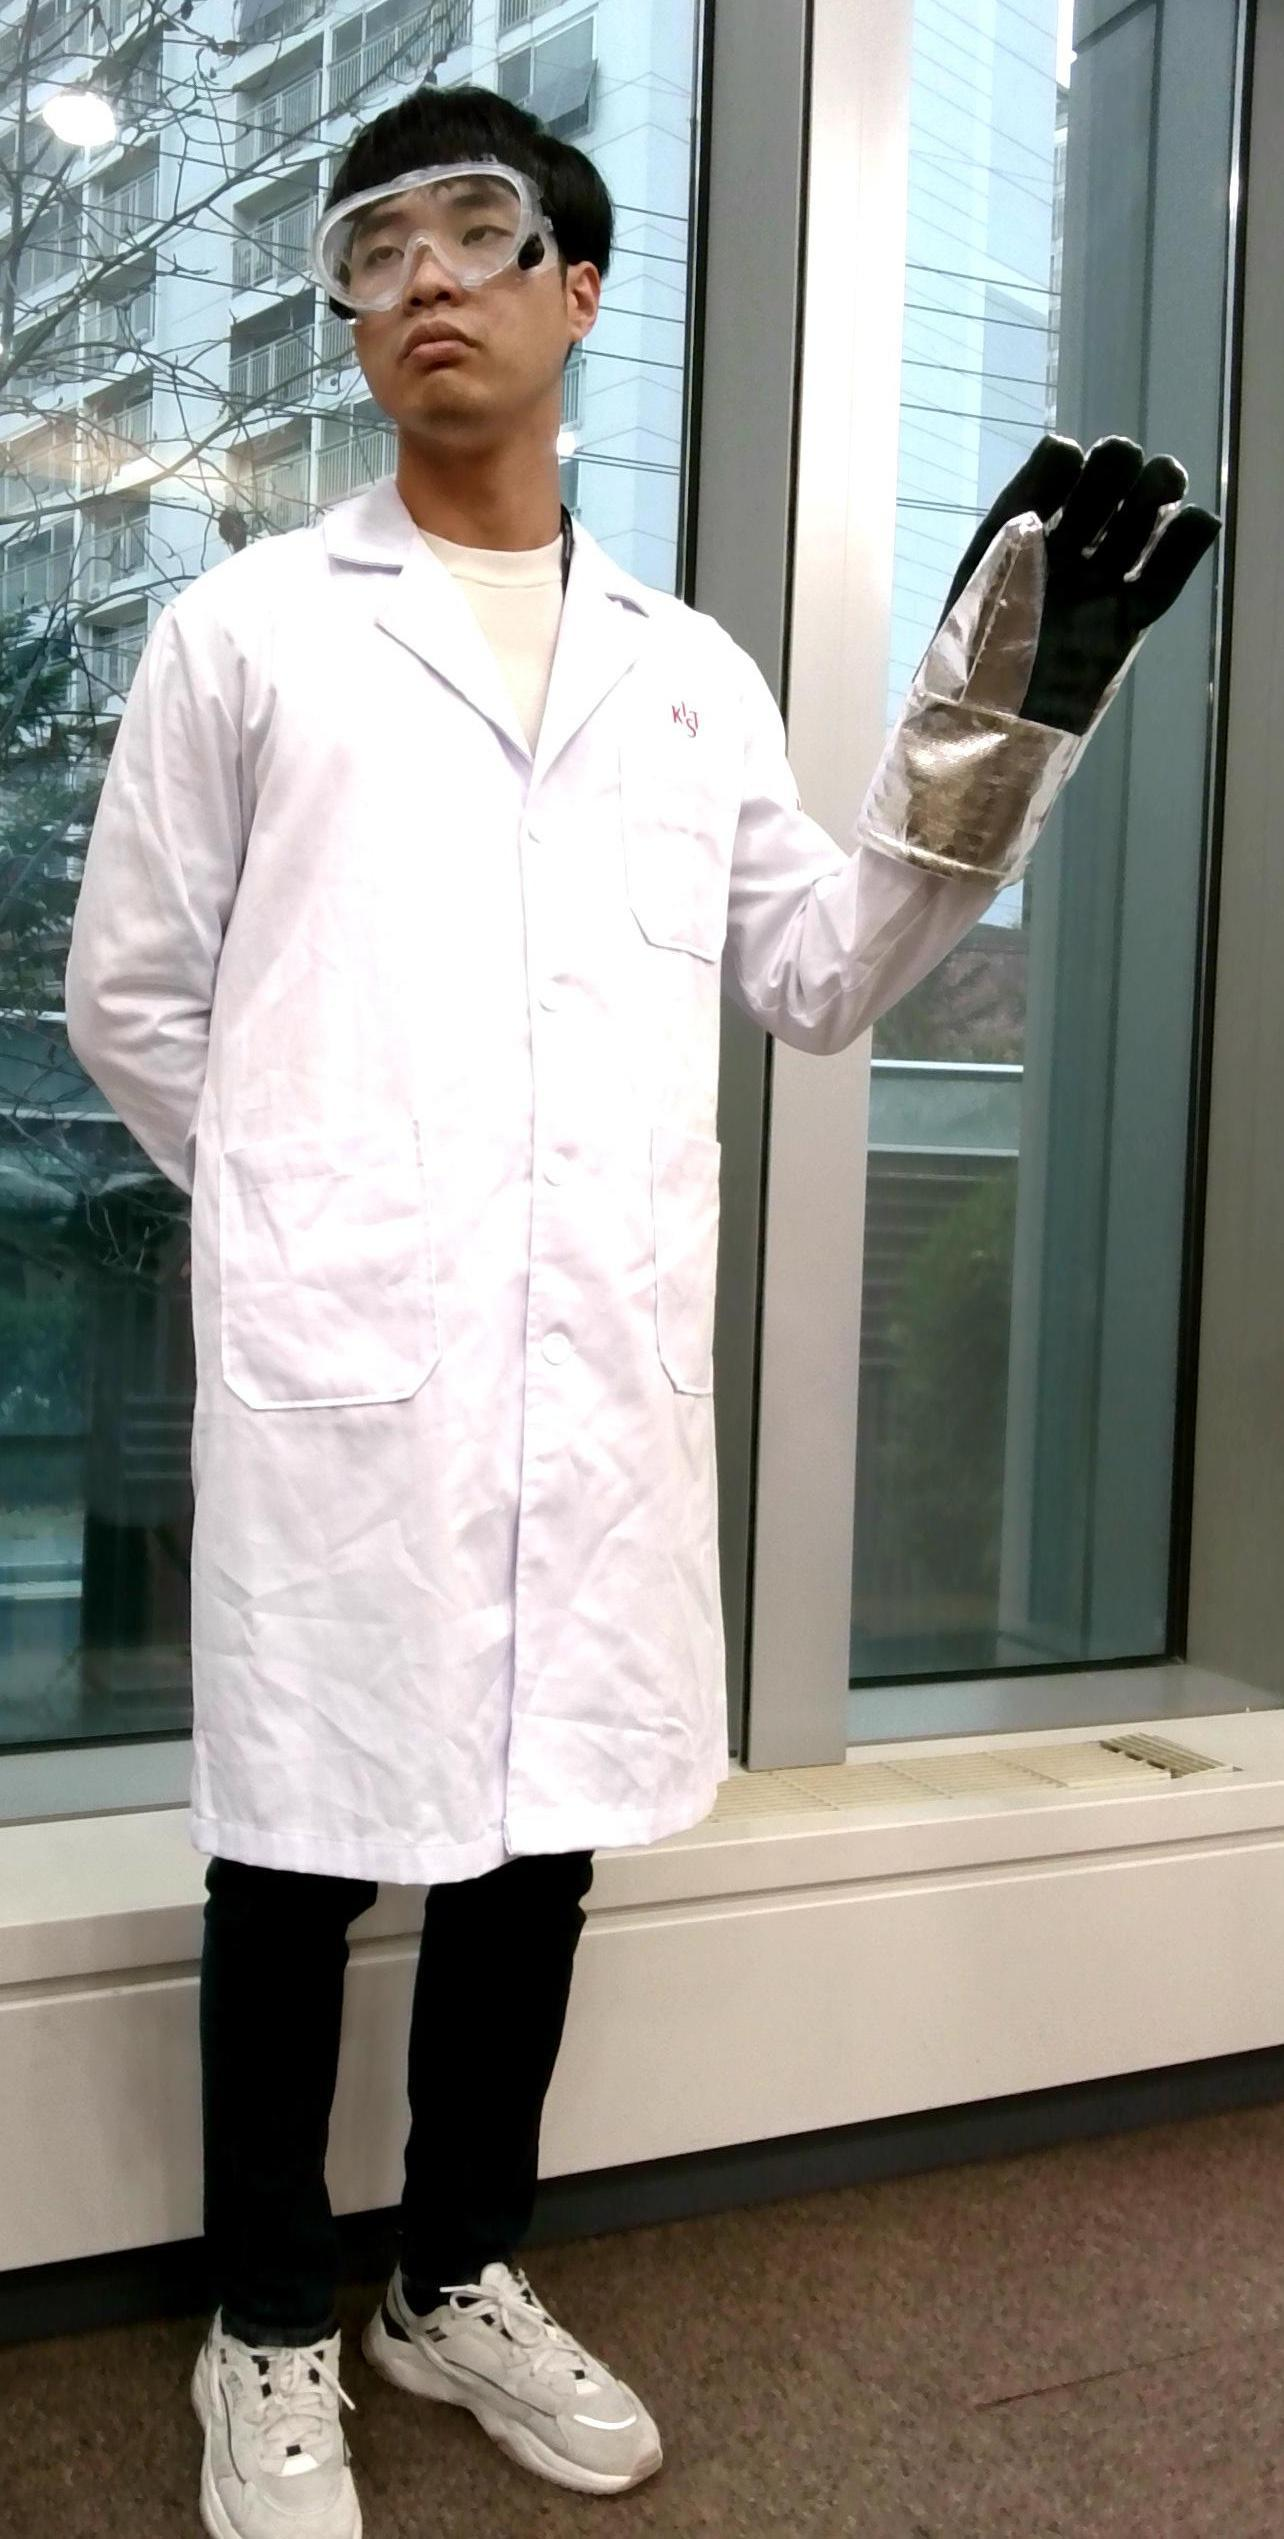lab_coat: (97, 521, 802, 1830)
